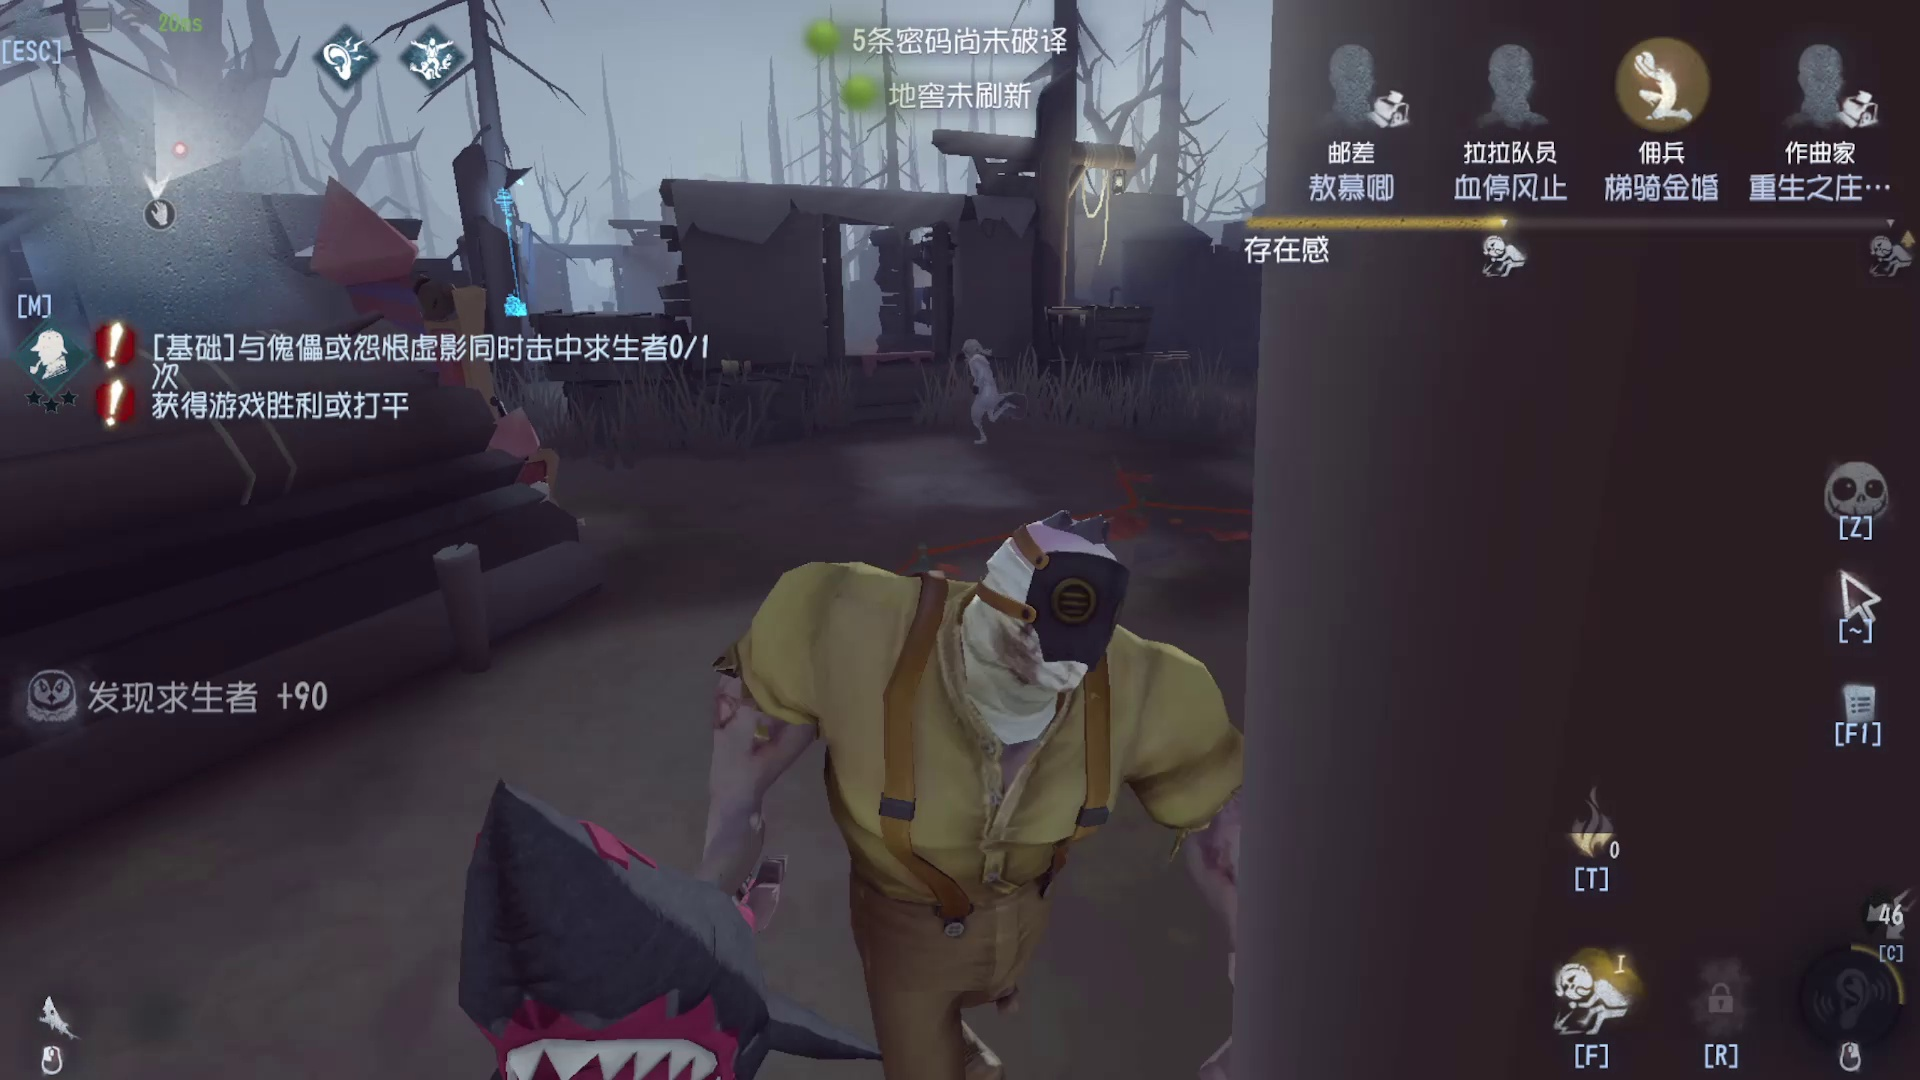密码机: (471, 171, 549, 335)
求生者: (943, 331, 1011, 444)
脚印: (1015, 455, 1236, 556)
